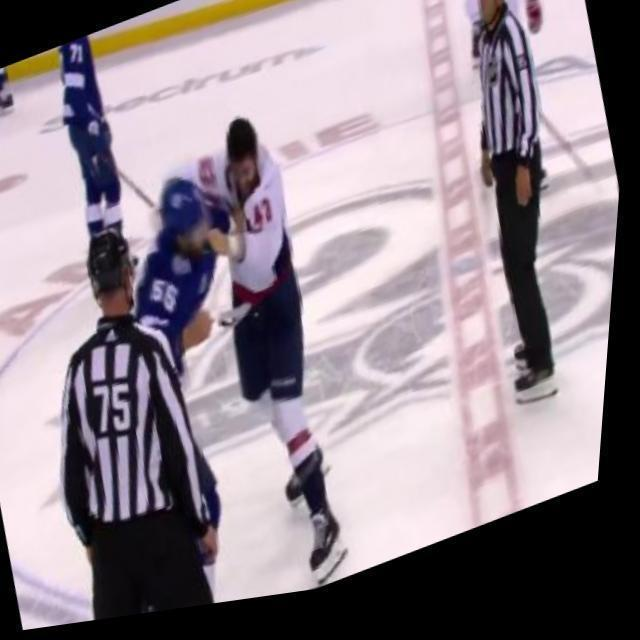fight: (59, 88, 409, 630)
